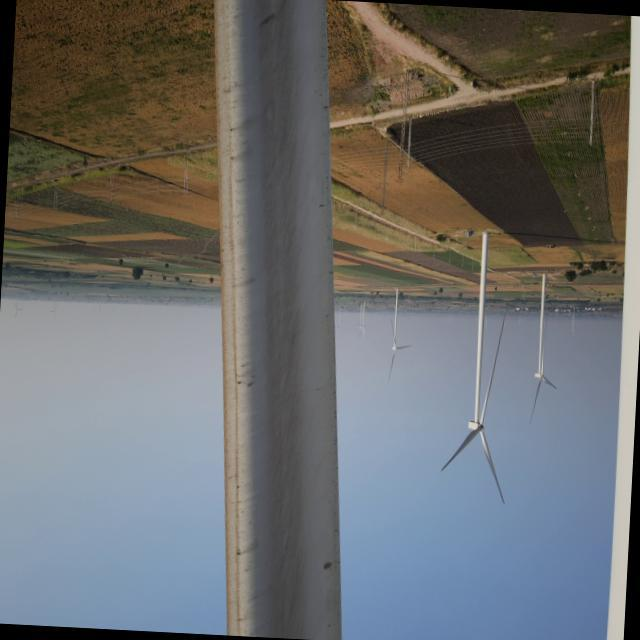Dirt: (210, 0, 343, 640)
Pin Hole: (318, 558, 335, 576)
